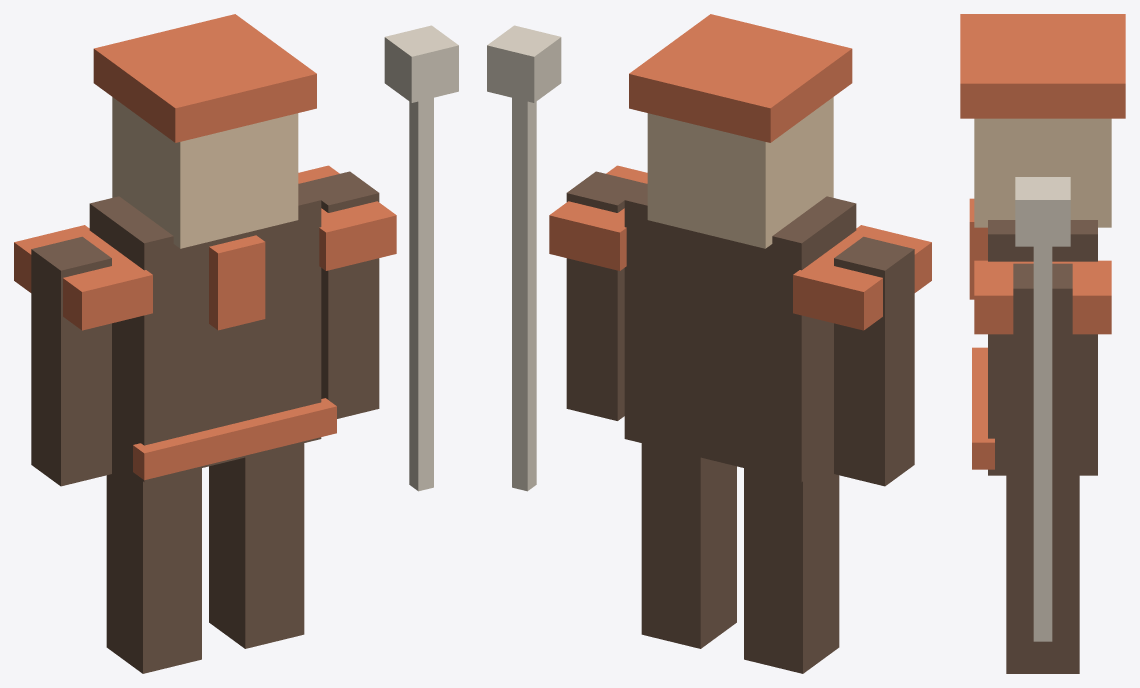
File: 09_yara_wayfare_smith_under_silent.glb
3 views of the same model, side by side, from view 1: azimuth 30°, elevation 25°; view 2: azimuth 150°, elevation 25°; view 3: azimuth 270°, elevation 25° (orthographic).
Visible parts, largest first — view 1: Yara Wayfare, Smith under Silent; view 2: Yara Wayfare, Smith under Silent; view 3: Yara Wayfare, Smith under Silent.
Boxes of the visible parts, bbox=[...] form: Yara Wayfare, Smith under Silent: bbox=[14, 14, 458, 673]; Yara Wayfare, Smith under Silent: bbox=[487, 14, 931, 673]; Yara Wayfare, Smith under Silent: bbox=[960, 14, 1125, 673].
Size of the model in its own units: 1.03 by 1.43 by 0.3661.
